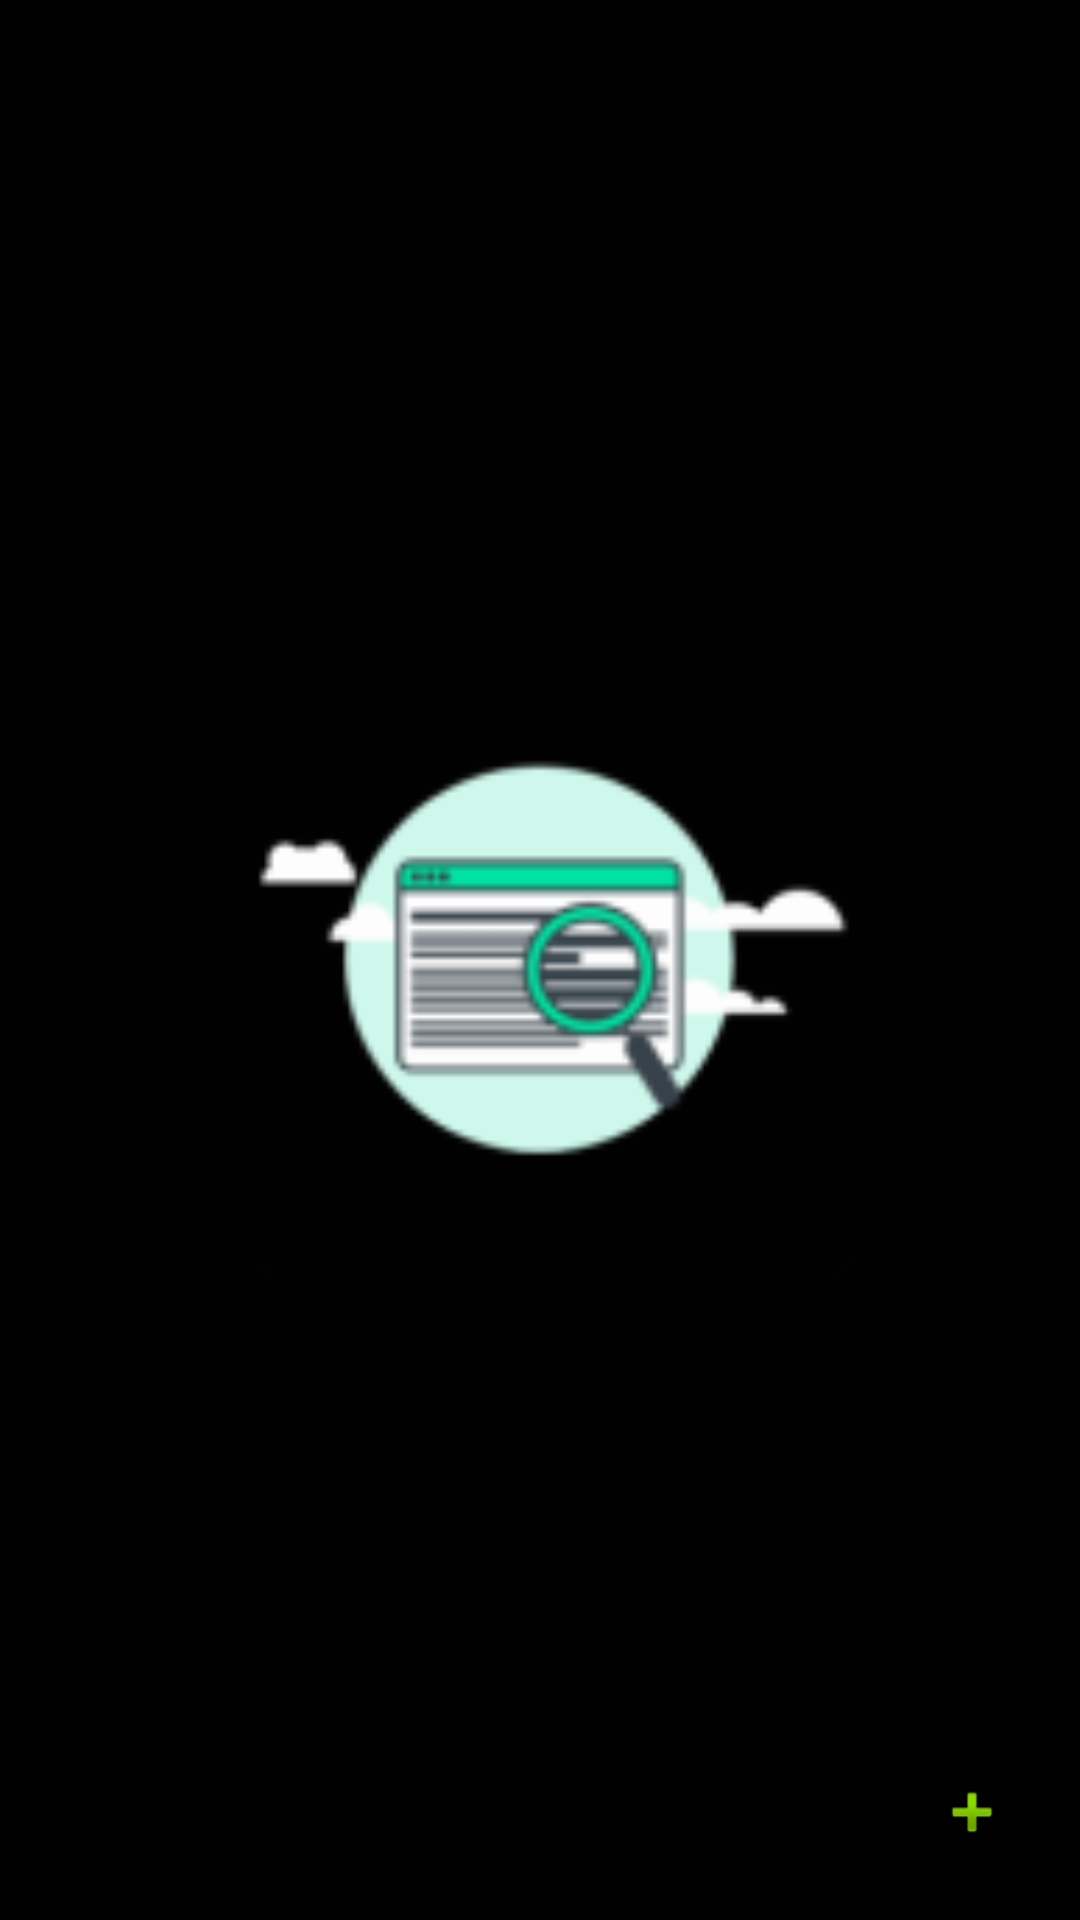

Locate icon controls on the screen. Image size 1080x1920, boxes as [left=x1, top=y1, right=x2, bottom=y2].
add: [left=952, top=1792, right=992, bottom=1832]
